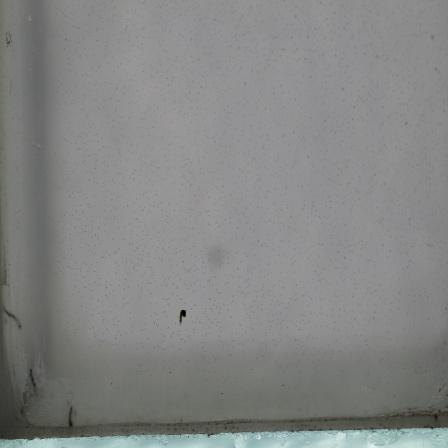Jentik-Nyamuk: (62, 402, 77, 430), (177, 305, 187, 327)
